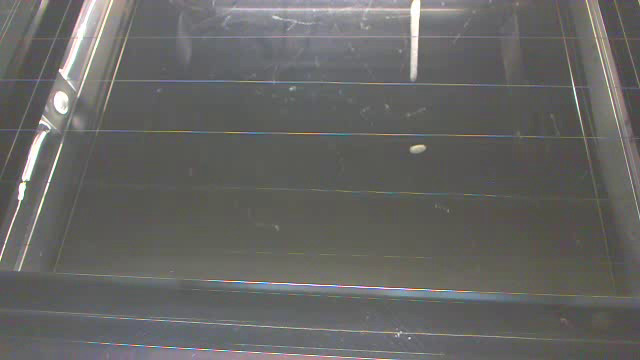alpha: (390, 1, 443, 86), (403, 137, 438, 161)
